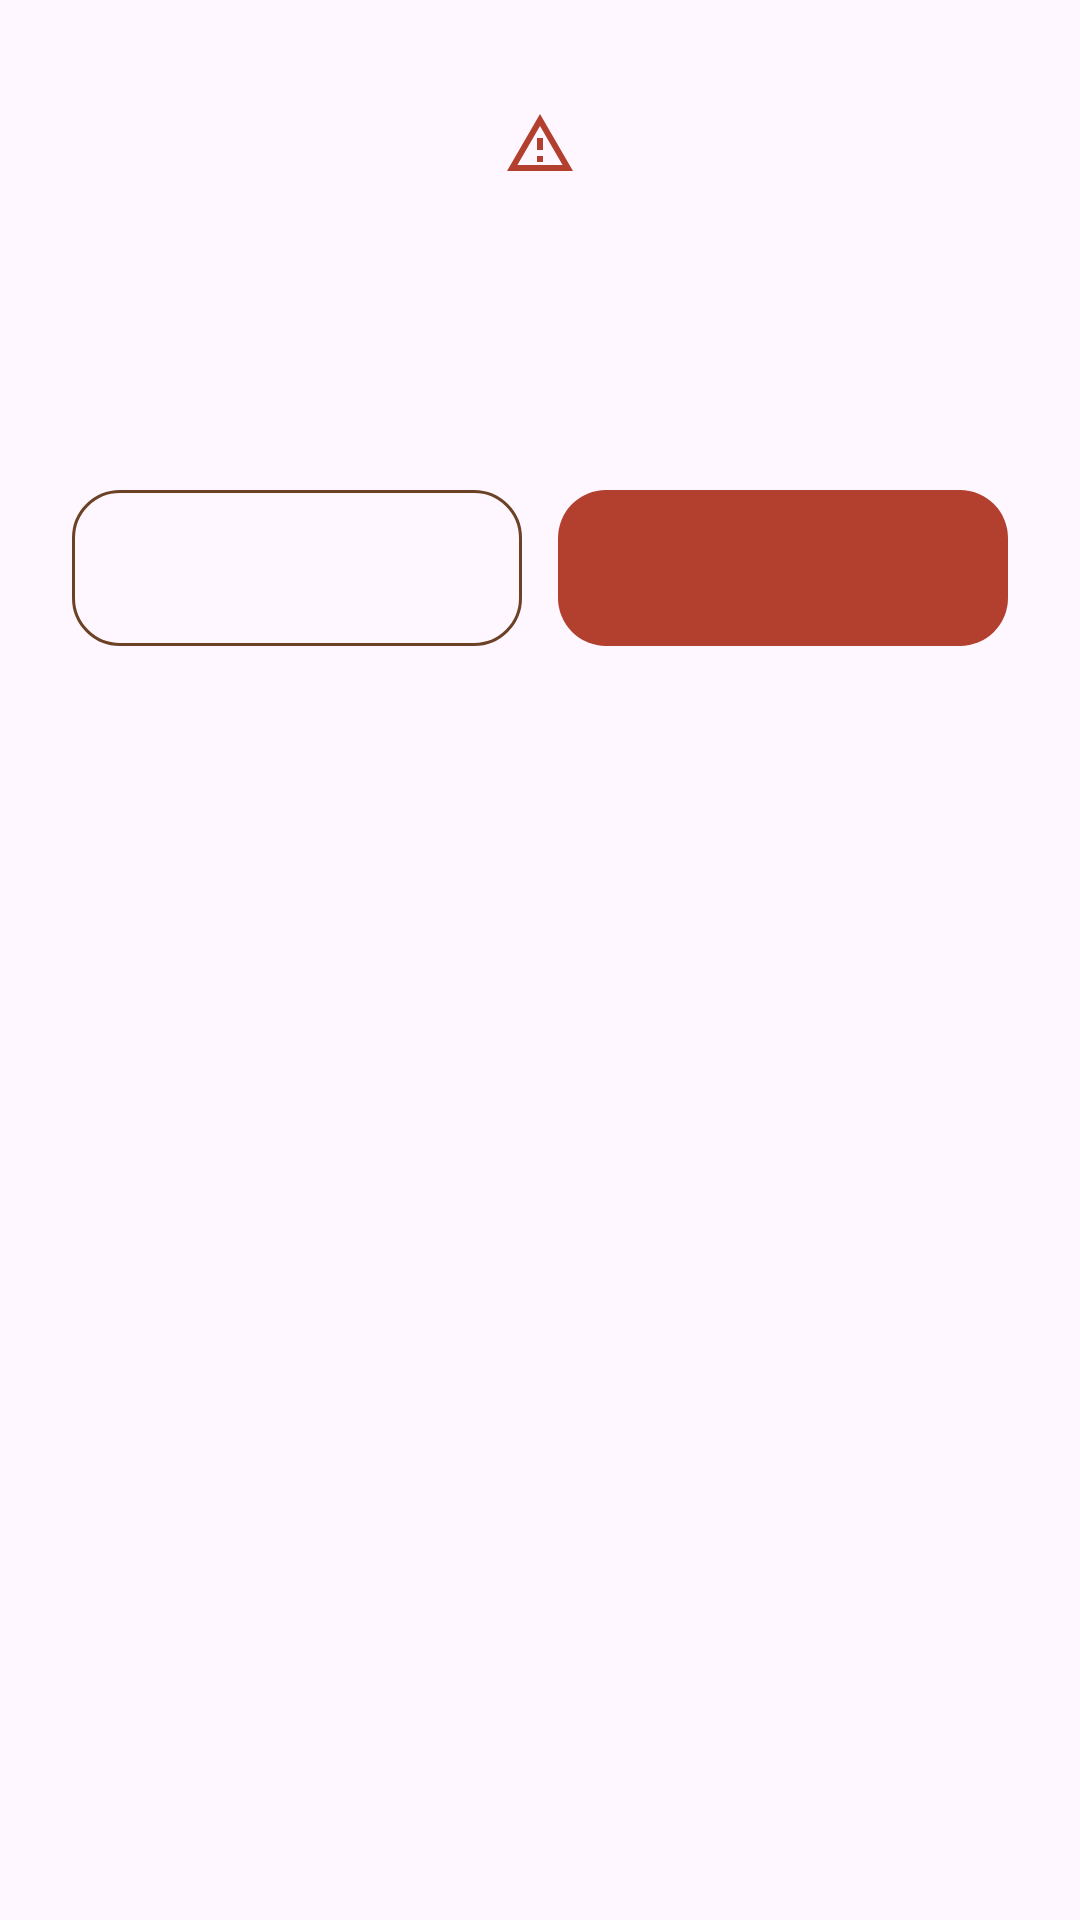

Icons on this 1080w x 1920h Android screen, each with the point to tap as (x,y):
warning: (540,142)
